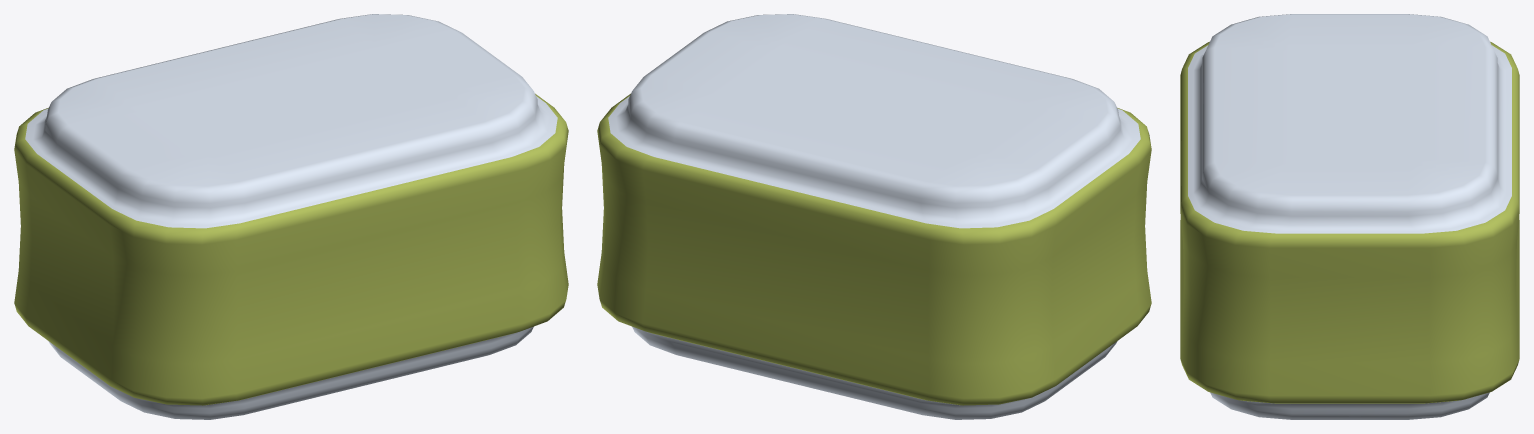
The model's file is SM_Building_03_Version_03_Part_02.fbx.
3 views of the same model, side by side, from view 1: azimuth 30°, elevation 25°; view 2: azimuth 150°, elevation 25°; view 3: azimuth 270°, elevation 25° (orthographic). The views are drawn at different scales.
Visible parts, largest first — view 1: SM_Building_03_Version_03_Part_02; view 2: SM_Building_03_Version_03_Part_02; view 3: SM_Building_03_Version_03_Part_02.
Boxes of the visible parts, x1,y1,x2,y2 form: SM_Building_03_Version_03_Part_02: (14, 14, 568, 419); SM_Building_03_Version_03_Part_02: (597, 14, 1151, 419); SM_Building_03_Version_03_Part_02: (1180, 14, 1519, 419).
Bounding box in the file's own units: 4293 × 2142 × 2939.
